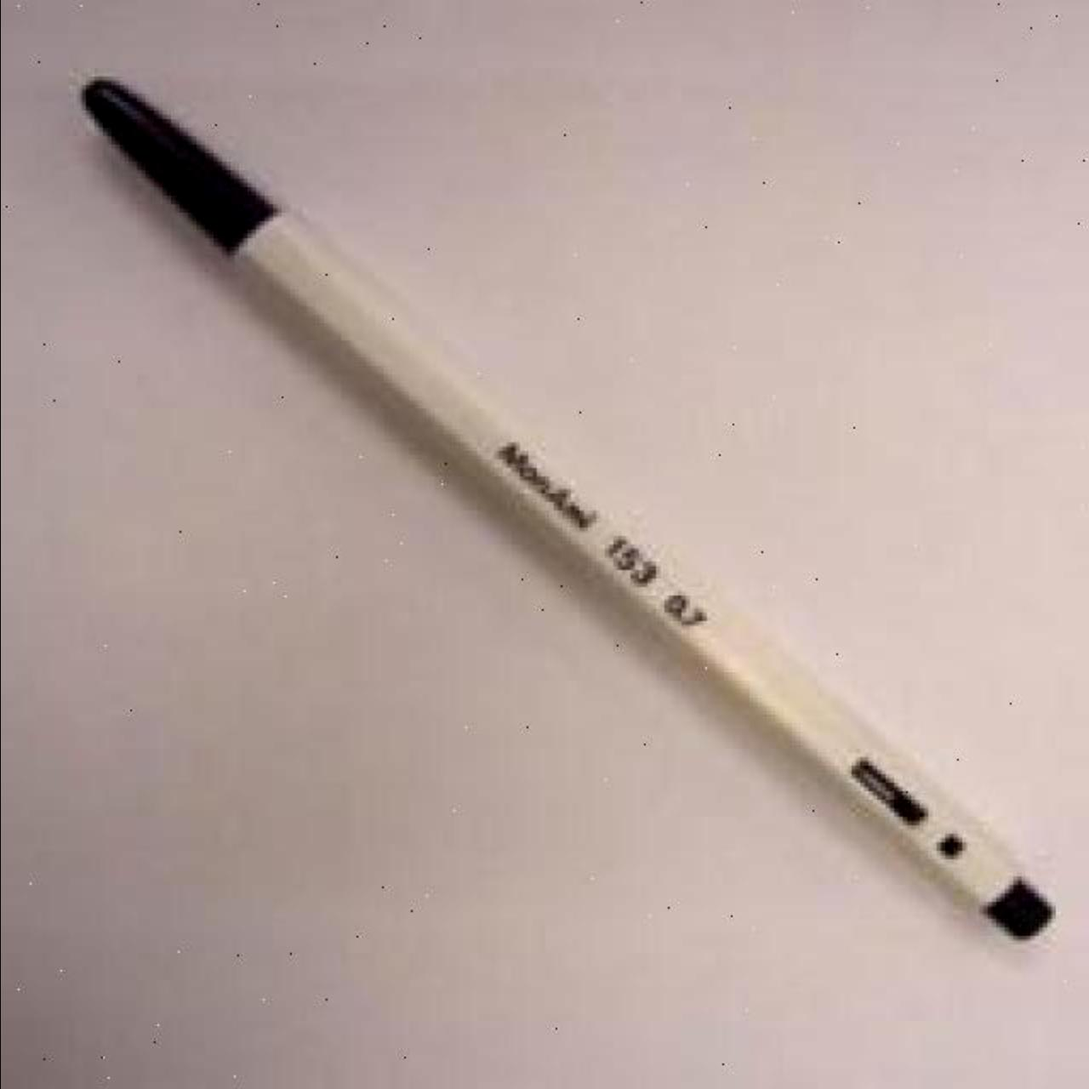pen: (80, 71, 1055, 948)
